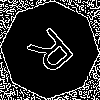R: (25, 25, 83, 84)
